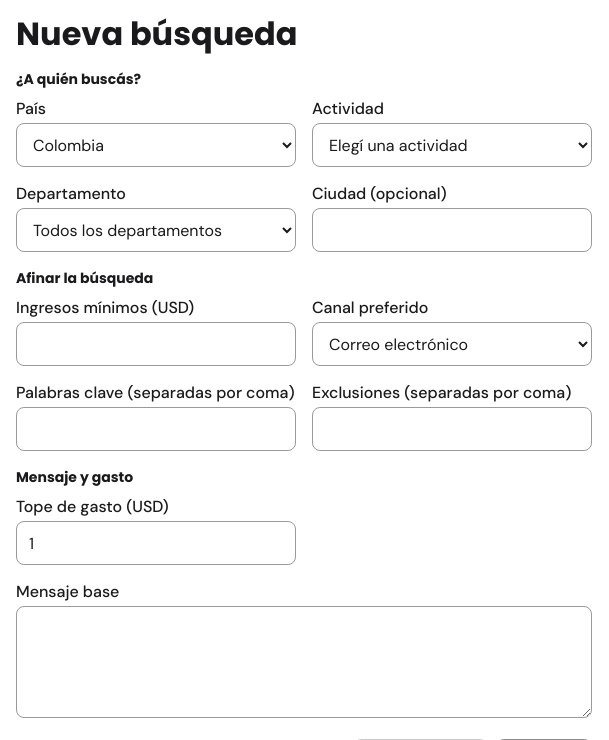
Scenario: muestra_conteo_y_motivo_por_fuente
Select "Elaboración de productos de panadería" in the dropdown labelled "Actividad" at (452, 145), box top-left (312, 123), bottom-right (592, 167)
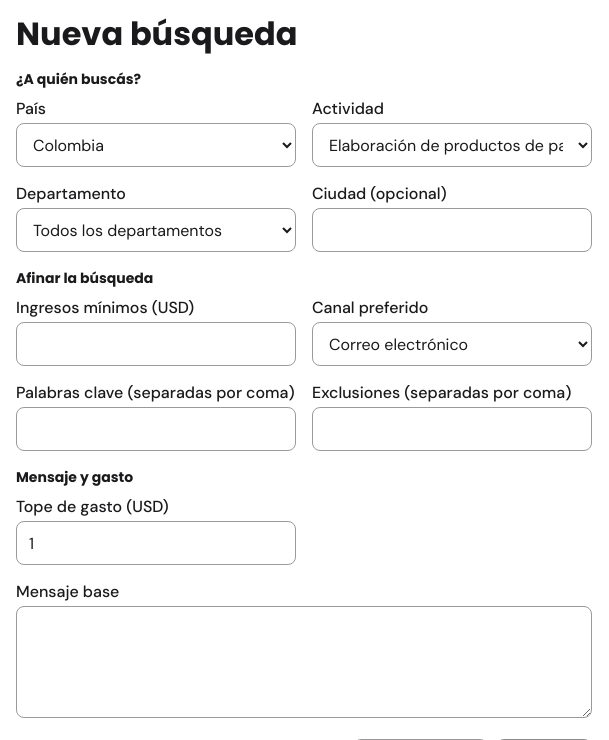
Type "pan, harina" into the field labelled "Palabras clave (separadas por coma)" at (156, 429), box top-left (16, 407), bottom-right (296, 451)
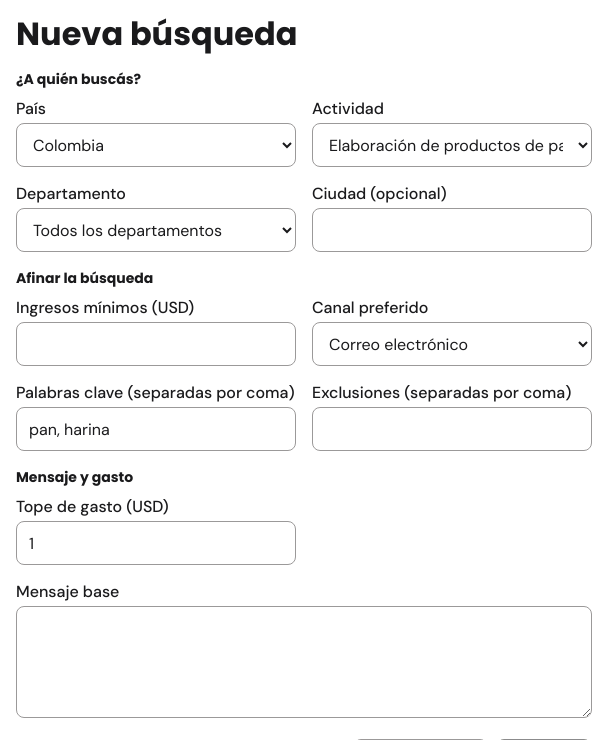
Replace the text in the number field labelled "Tope de gasto (USD)" with "5" at (156, 543), box top-left (16, 521), bottom-right (296, 565)
(page scrolled)
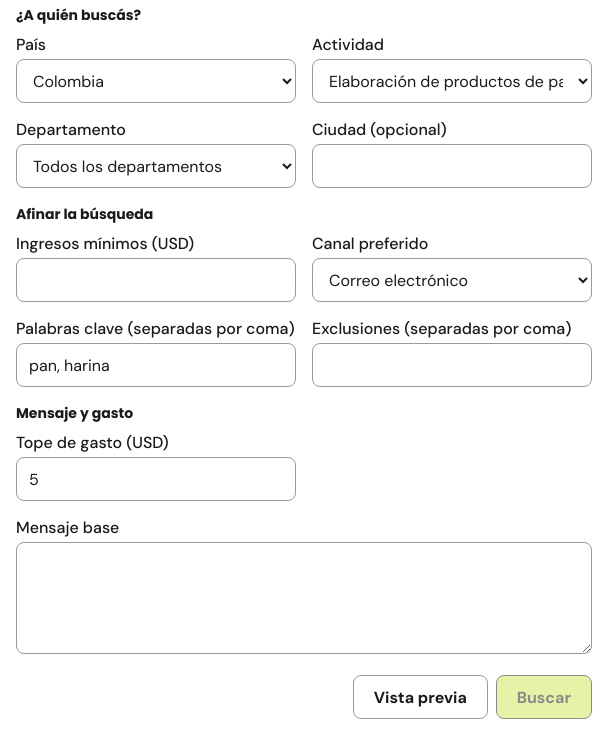
Click the button "Vista previa" at (420, 697), box top-left (353, 675), bottom-right (488, 719)
(page scrolled)
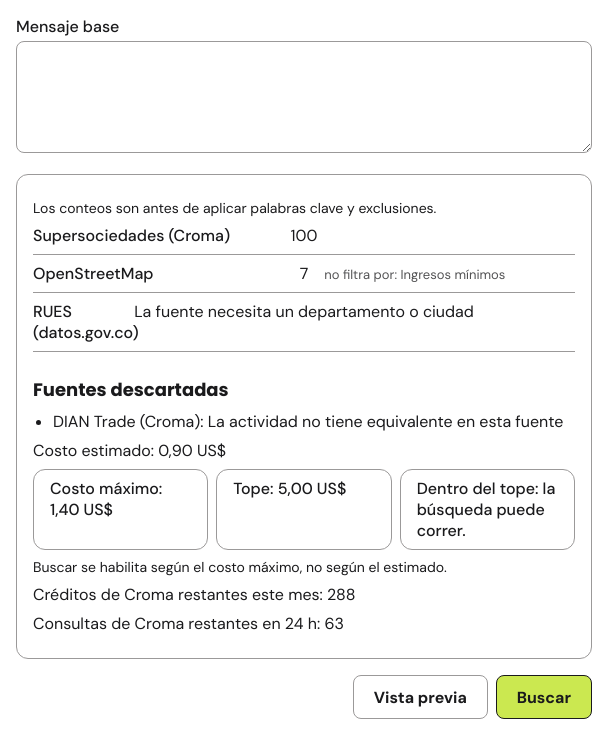
Check: the list item "OpenStreetMap 7 no filtra por: Ingresos mínimos" is shown, box top-left (33, 263), bottom-right (575, 293)
Check: the list item "Supersociedades (Croma) 100" is shown, box top-left (33, 225), bottom-right (575, 255)
Check: the list item that starts with "RUES (datos.gov.co)" shows "La fuente necesita un departamento o ciudad", box top-left (134, 301), bottom-right (474, 322)
